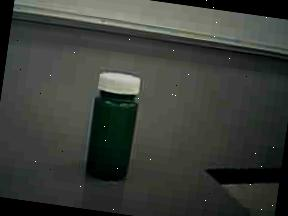Bottle C: (71, 61, 158, 192)
